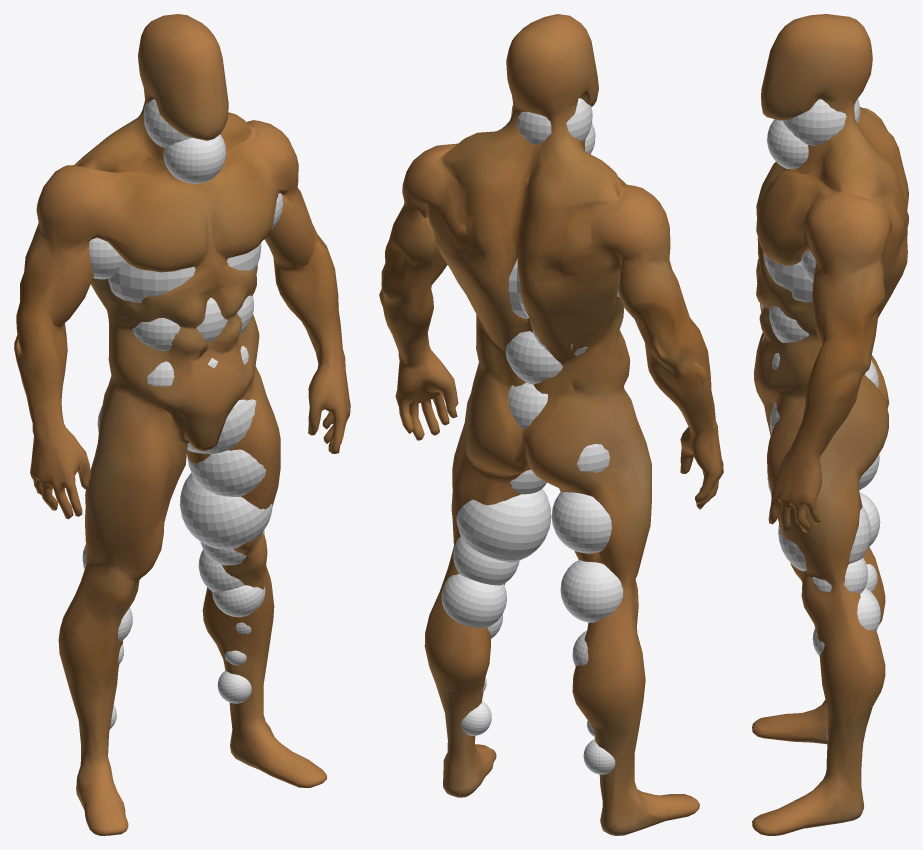
The model's file is mannequin.glb.
3 views of the same model, side by side, from view 1: azimuth 30°, elevation 25°; view 2: azimuth 150°, elevation 25°; view 3: azimuth 270°, elevation 25° (orthographic). The views are drawn at different scales.
Visible parts, largest first — view 1: Merged_new1_11, Sphere.031, Sphere.013, Sphere.026, Sphere.002, Sphere.012, Sphere.015, Sphere.023, Sphere.021, Sphere, Sphere.032, Sphere.018 (+1 smaller); view 2: Merged_new1_11, Sphere.031, Sphere.007, Sphere.006, Sphere.032, Sphere.003, Sphere.014, Sphere, Sphere.004, Sphere.011, Sphere.005, Sphere.018; view 3: Merged_new1_11, Sphere, Sphere.026, Sphere.031, Sphere.019, Sphere.014, Sphere.025, Sphere.032, Sphere.007, Sphere.020.
Boxes of the visible parts, x1,y1,x2,y2 form: Merged_new1_11: (14, 14, 350, 835); Sphere.031: (179, 472, 272, 549); Sphere.013: (187, 449, 266, 496); Sphere.026: (163, 134, 226, 183); Sphere.002: (108, 259, 195, 303); Sphere.012: (187, 399, 256, 454); Sphere.015: (212, 585, 265, 617); Sphere.023: (132, 318, 180, 351); Sphere.021: (89, 238, 123, 279); Sphere: (143, 99, 191, 147); Sphere.032: (198, 549, 244, 592); Sphere.018: (217, 670, 251, 703); Merged_new1_11: (379, 14, 723, 835); Sphere.031: (456, 488, 551, 562); Sphere.007: (560, 560, 623, 622); Sphere.006: (551, 491, 611, 553); Sphere.032: (441, 574, 506, 628); Sphere.003: (505, 331, 562, 384); Sphere.014: (453, 536, 519, 585); Sphere: (511, 98, 592, 144); Sphere.004: (508, 383, 547, 429); Sphere.011: (583, 739, 615, 774); Sphere.005: (576, 444, 609, 472); Sphere.018: (461, 701, 491, 735); Merged_new1_11: (752, 14, 908, 835); Sphere: (782, 99, 860, 145); Sphere.026: (767, 119, 808, 169); Sphere.031: (778, 505, 870, 571); Sphere.019: (763, 252, 812, 302); Sphere.014: (812, 558, 867, 593); Sphere.025: (769, 306, 808, 342); Sphere.032: (857, 587, 880, 630); Sphere.007: (859, 492, 880, 547); Sphere.020: (801, 250, 816, 282).
Size of the model in its own units: 2.42 by 5.59 by 1.04.
